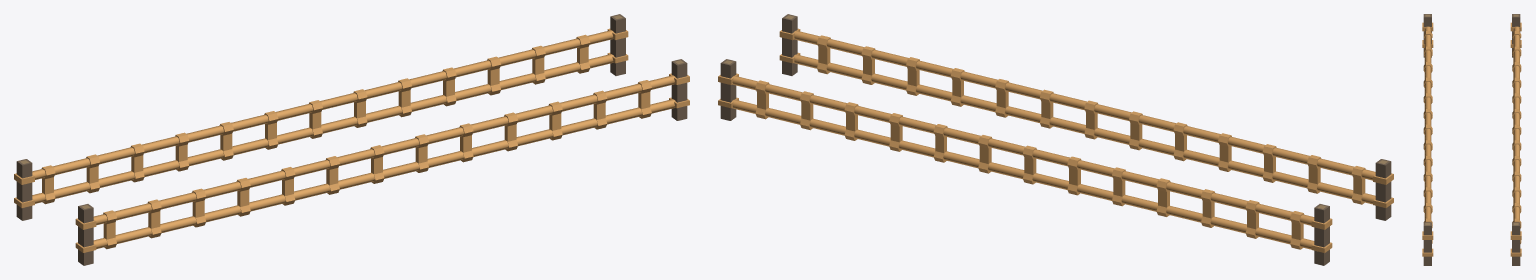
File: FlatBridge.fbx
3 renders of one model, left to right at view 1: azimuth 30°, elevation 25°; view 2: azimuth 150°, elevation 25°; view 3: azimuth 270°, elevation 25°, orthographic. The views are drawn at different scales.
Parts seen in each view (by area): view 1: Bridge2; view 2: Bridge2; view 3: Bridge2.
Part boxes in pixels (left/top/right/bottom): Bridge2: left=14, top=14, right=689, bottom=265; Bridge2: left=718, top=14, right=1393, bottom=265; Bridge2: left=1422, top=14, right=1521, bottom=265.
Bounding box in the file's own units: 2282 × 200 × 450.
